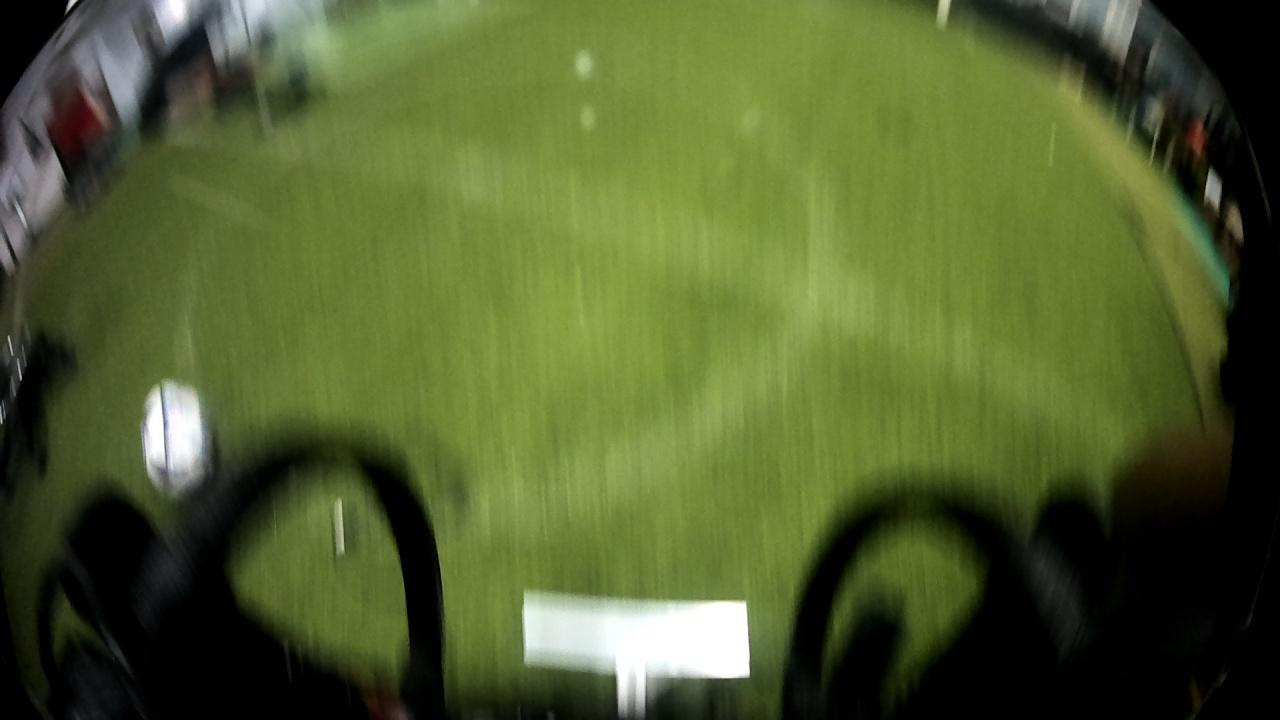ball: (137, 371, 214, 502)
